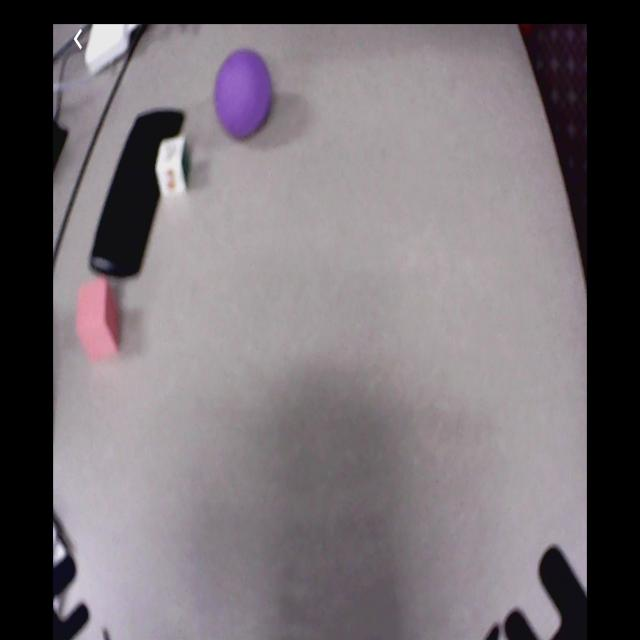ball: (211, 50, 278, 139)
